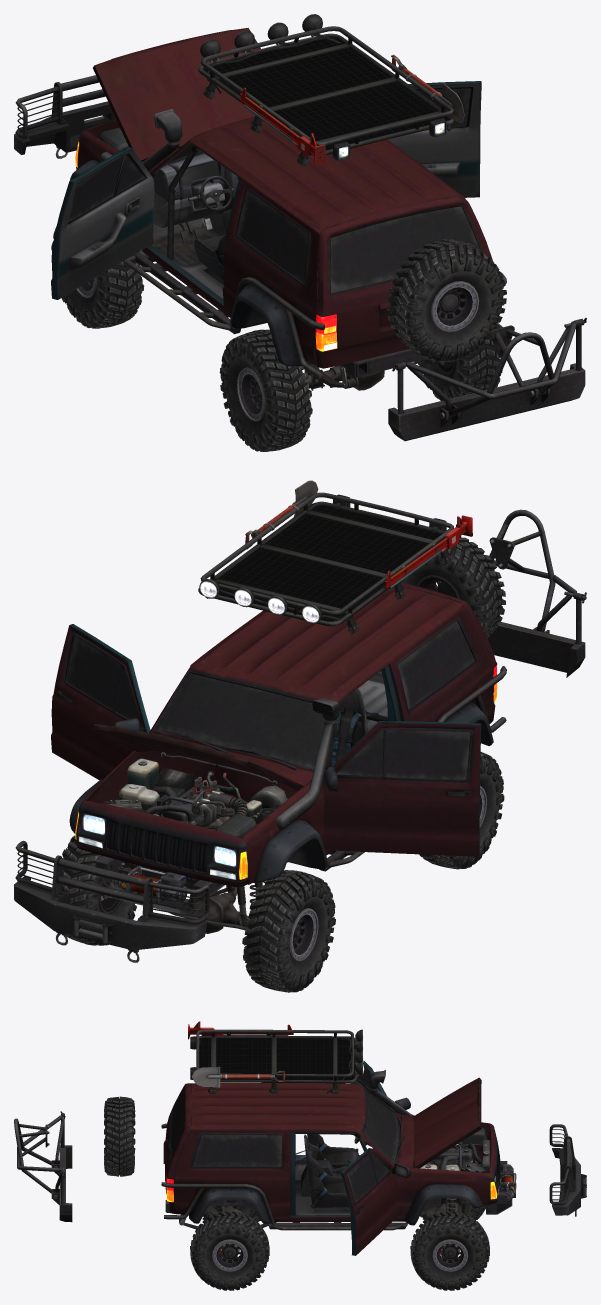
The picture shows the model from 3 angles, top to bottom: view 1: azimuth 30°, elevation 25°; view 2: azimuth 150°, elevation 25°; view 3: azimuth 270°, elevation 25°; orthographic projection. The views are drawn at different scales.
Parts seen in each view (by area): view 1: _gltfNode_0, _gltfNode_28, _gltfNode_38, _gltfNode_3, _gltfNode_24, _gltfNode_5, _gltfNode_46, _gltfNode_15, _gltfNode_10, _gltfNode_26, _gltfNode_42, _gltfNode_19 (+3 smaller); view 2: _gltfNode_0, _gltfNode_28, _gltfNode_5, _gltfNode_26, _gltfNode_17, _gltfNode_42, _gltfNode_10, _gltfNode_24, _gltfNode_7, _gltfNode_38, _gltfNode_19, _gltfNode_12 (+3 smaller); view 3: _gltfNode_0, _gltfNode_28, _gltfNode_48, _gltfNode_44, _gltfNode_3, _gltfNode_10, _gltfNode_21, _gltfNode_24, _gltfNode_38, _gltfNode_26, _gltfNode_17, _gltfNode_12 (+1 smaller).
Part boxes in pixels (left/top/right/bottom): _gltfNode_0: left=70, top=109, right=506, bottom=399; _gltfNode_28: left=198, top=14, right=464, bottom=166; _gltfNode_38: left=386, top=239, right=506, bottom=361; _gltfNode_3: left=93, top=28, right=260, bottom=161; _gltfNode_24: left=388, top=317, right=586, bottom=441; _gltfNode_5: left=51, top=147, right=154, bottom=299; _gltfNode_46: left=219, top=329, right=312, bottom=451; _gltfNode_15: left=330, top=206, right=479, bottom=293; _gltfNode_10: left=387, top=81, right=481, bottom=197; _gltfNode_26: left=14, top=75, right=115, bottom=158; _gltfNode_42: left=51, top=226, right=144, bottom=328; _gltfNode_19: left=237, top=190, right=308, bottom=283; _gltfNode_0: left=69, top=582, right=506, bottom=940; _gltfNode_28: left=198, top=480, right=472, bottom=634; _gltfNode_5: left=322, top=721, right=481, bottom=856; _gltfNode_26: left=14, top=840, right=209, bottom=962; _gltfNode_17: left=157, top=673, right=324, bottom=768; _gltfNode_42: left=242, top=870, right=335, bottom=992; _gltfNode_10: left=51, top=624, right=150, bottom=780; _gltfNode_24: left=436, top=509, right=586, bottom=677; _gltfNode_7: left=336, top=730, right=470, bottom=779; _gltfNode_38: left=401, top=536, right=505, bottom=637; _gltfNode_19: left=398, top=621, right=474, bottom=708; _gltfNode_12: left=67, top=636, right=140, bottom=725; _gltfNode_0: left=161, top=1070, right=516, bottom=1257; _gltfNode_28: left=188, top=1021, right=364, bottom=1093; _gltfNode_48: left=190, top=1211, right=269, bottom=1290; _gltfNode_44: left=410, top=1211, right=489, bottom=1290; _gltfNode_3: left=414, top=1077, right=481, bottom=1168; _gltfNode_10: left=340, top=1148, right=410, bottom=1255; _gltfNode_21: left=193, top=1135, right=281, bottom=1166; _gltfNode_24: left=14, top=1111, right=72, bottom=1222; _gltfNode_38: left=104, top=1096, right=135, bottom=1176; _gltfNode_26: left=549, top=1124, right=586, bottom=1216; _gltfNode_17: left=363, top=1090, right=398, bottom=1162; _gltfNode_12: left=347, top=1154, right=389, bottom=1202.
Bounding box in the file's own units: 3.88 × 2.83 × 6.87.
Materials: 3 (3 with a texture image).
